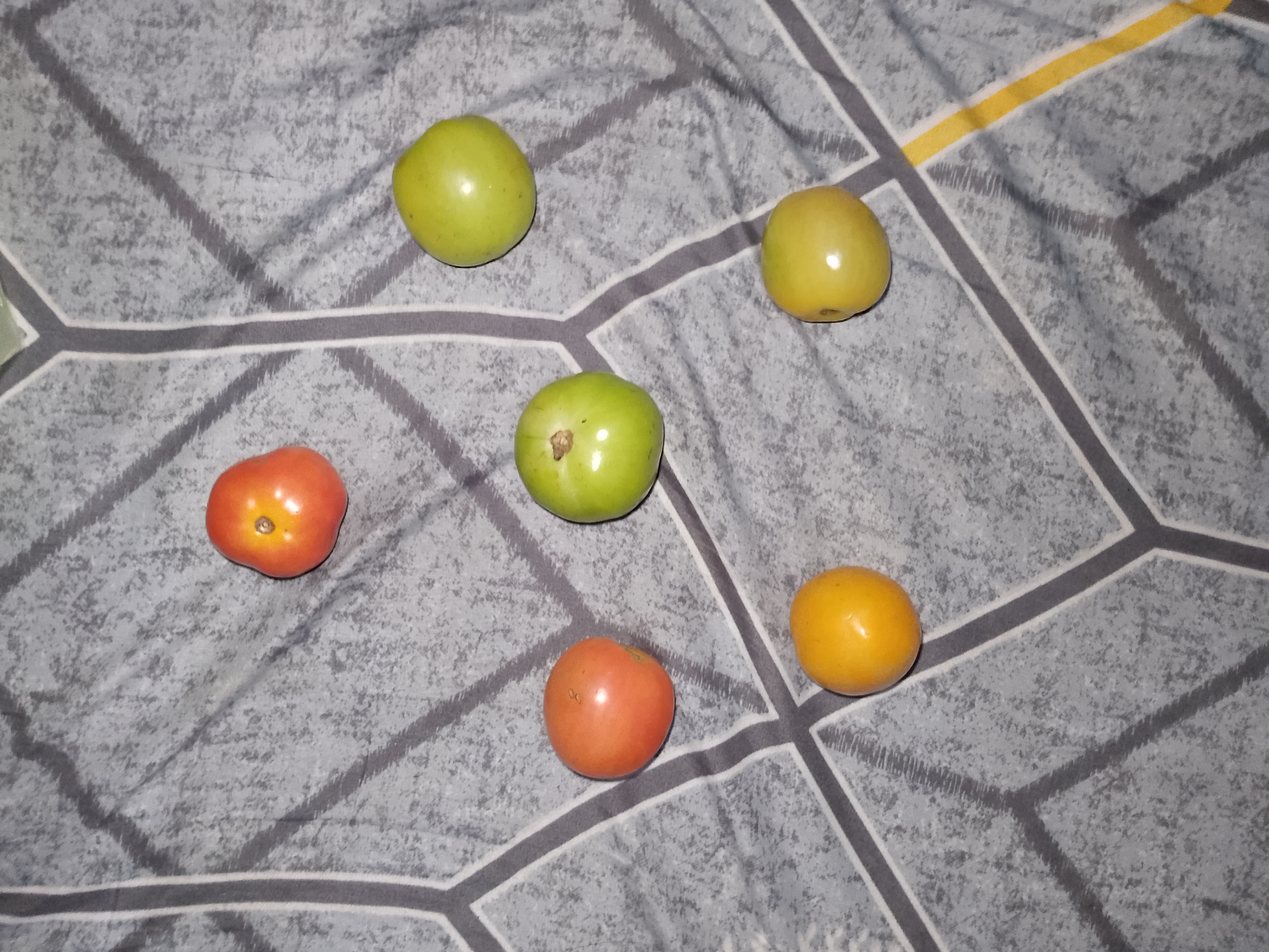Ripe: (88, 421, 438, 615), (755, 530, 950, 738), (537, 615, 697, 785)
Unripe: (335, 76, 582, 290), (487, 368, 701, 537), (742, 156, 923, 350)
